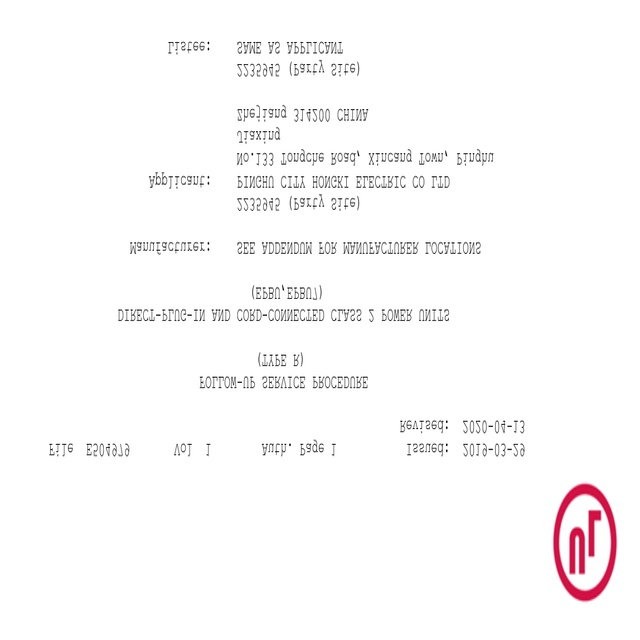ul: (552, 481, 617, 602)
